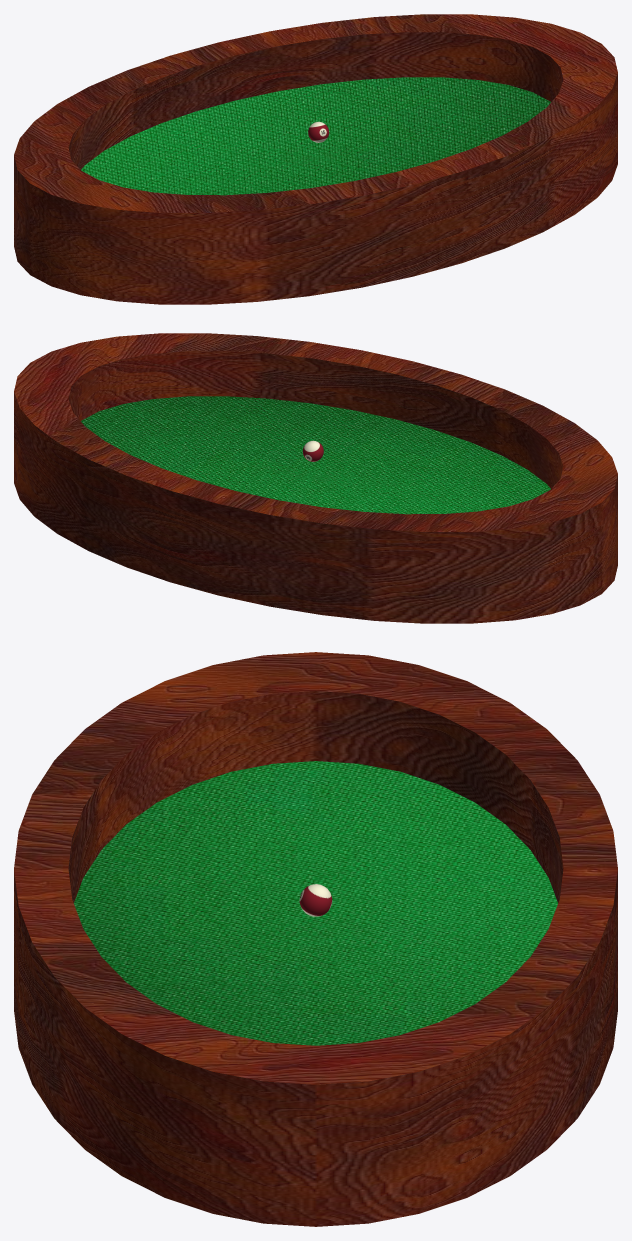
File: mesa de billar 1.fbx
3 views of the same model, one above another, from view 1: azimuth 30°, elevation 25°; view 2: azimuth 150°, elevation 25°; view 3: azimuth 270°, elevation 25° (orthographic). The views are drawn at different scales.
Visible parts, largest first — view 1: Tube, Cylinder; view 2: Tube, Cylinder; view 3: Tube, Cylinder, Sphere.
Boxes of the visible parts, x1=… form: Tube: x1=14, y1=14, x2=617, y2=304; Cylinder: x1=81, y1=77, x2=550, y2=195; Tube: x1=14, y1=333, x2=617, y2=623; Cylinder: x1=81, y1=396, x2=550, y2=514; Tube: x1=14, y1=652, x2=617, y2=1226; Cylinder: x1=74, y1=761, x2=557, y2=1045; Sphere: x1=299, y1=884, x2=332, y2=916.
Size of the model in its own units: 559 by 87.87 by 330.
3 materials, 3 textured.
